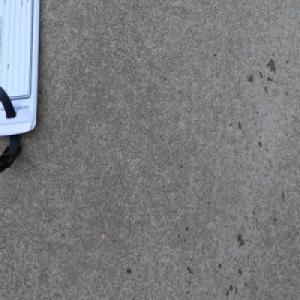LuggageTag: (0, 0, 43, 181)
